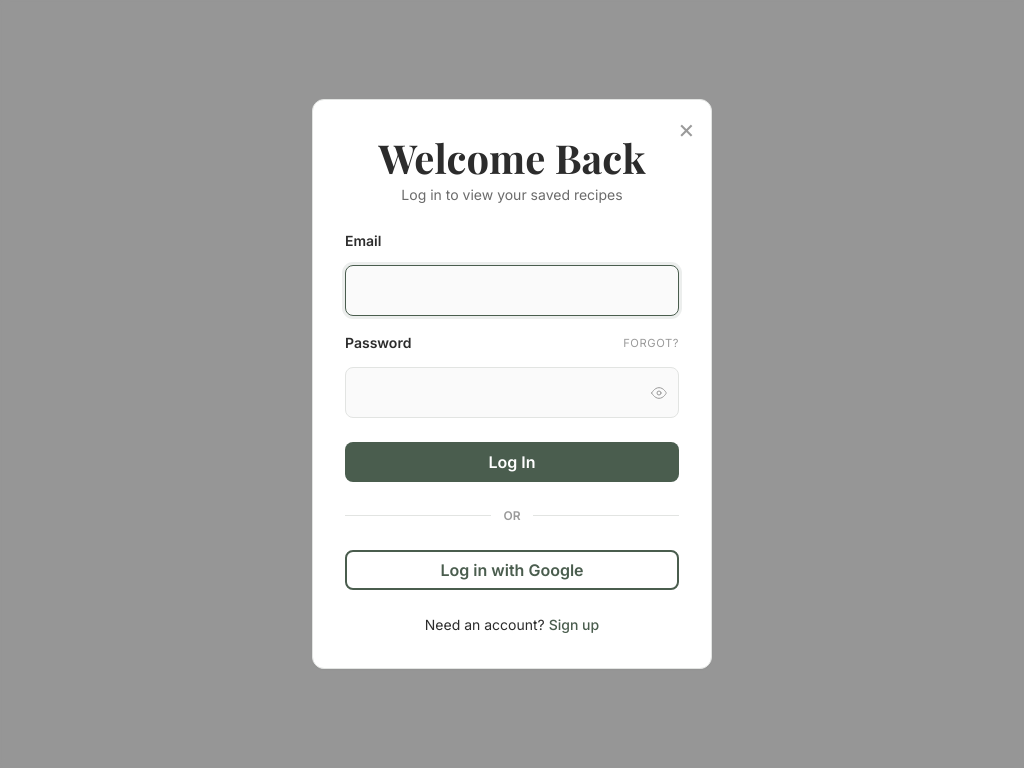
Test: LoginModal Component › handles login failure
Type "test@example.com" into the field labelled "Email" at (512, 291), box x1=345 y1=265 x2=679 y2=316
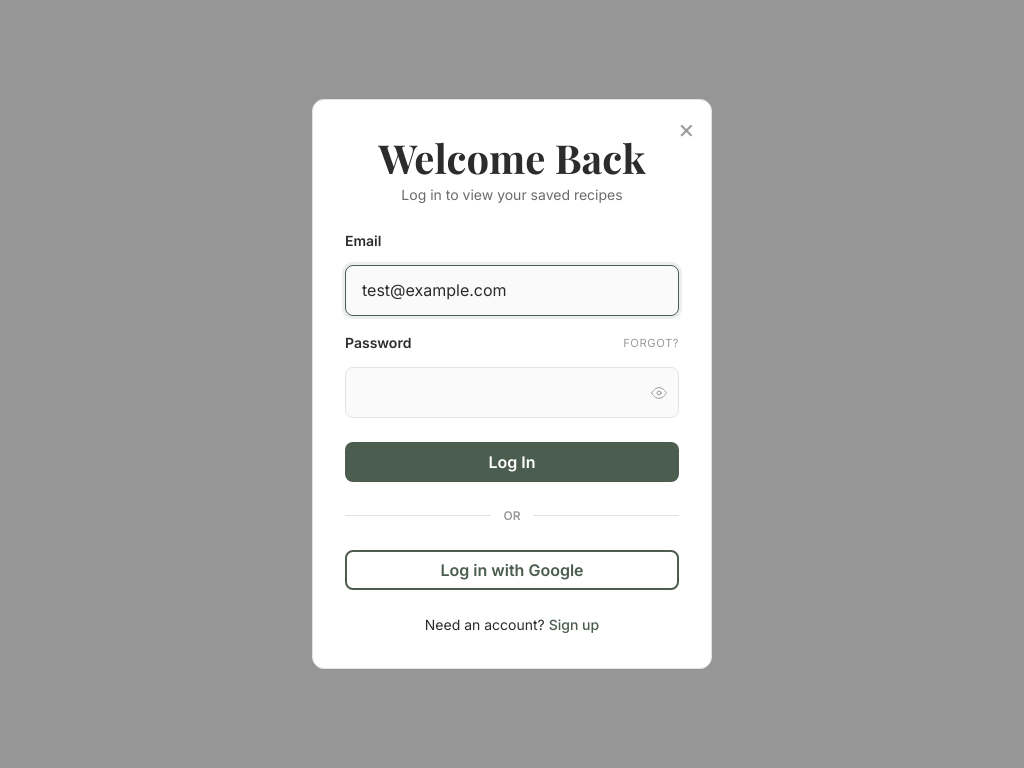
Type "wrongpass" into the password field labelled "Password" at (512, 393), box x1=345 y1=367 x2=679 y2=418
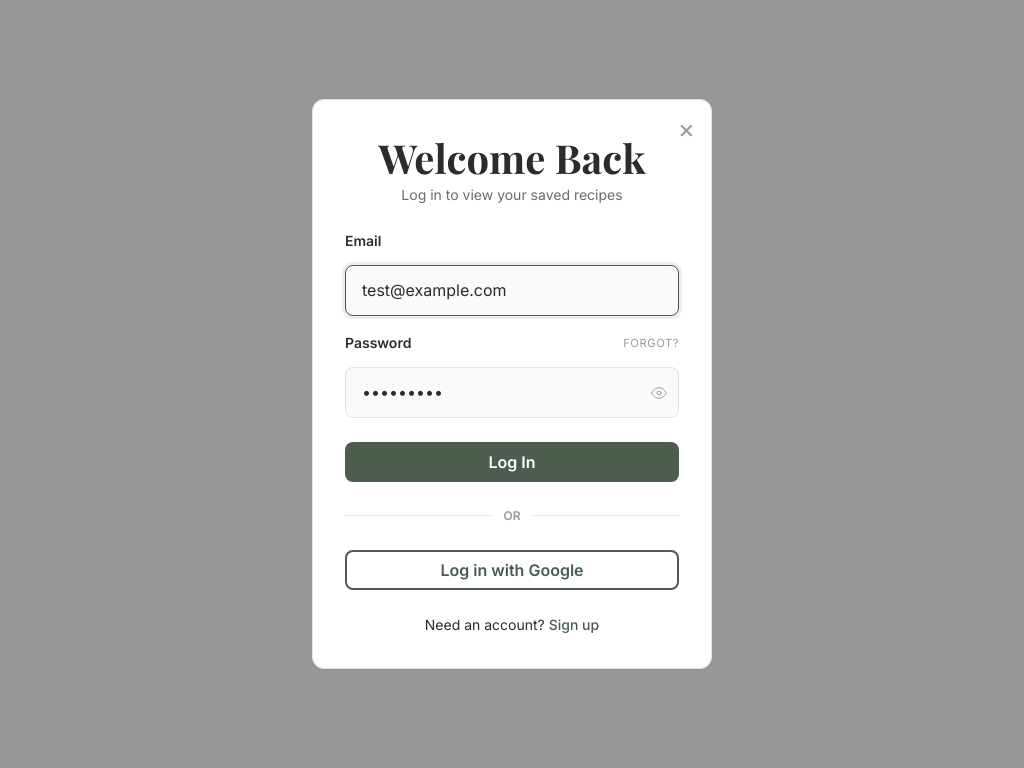
Click the button "Log In" at (512, 462), box x1=345 y1=442 x2=679 y2=482
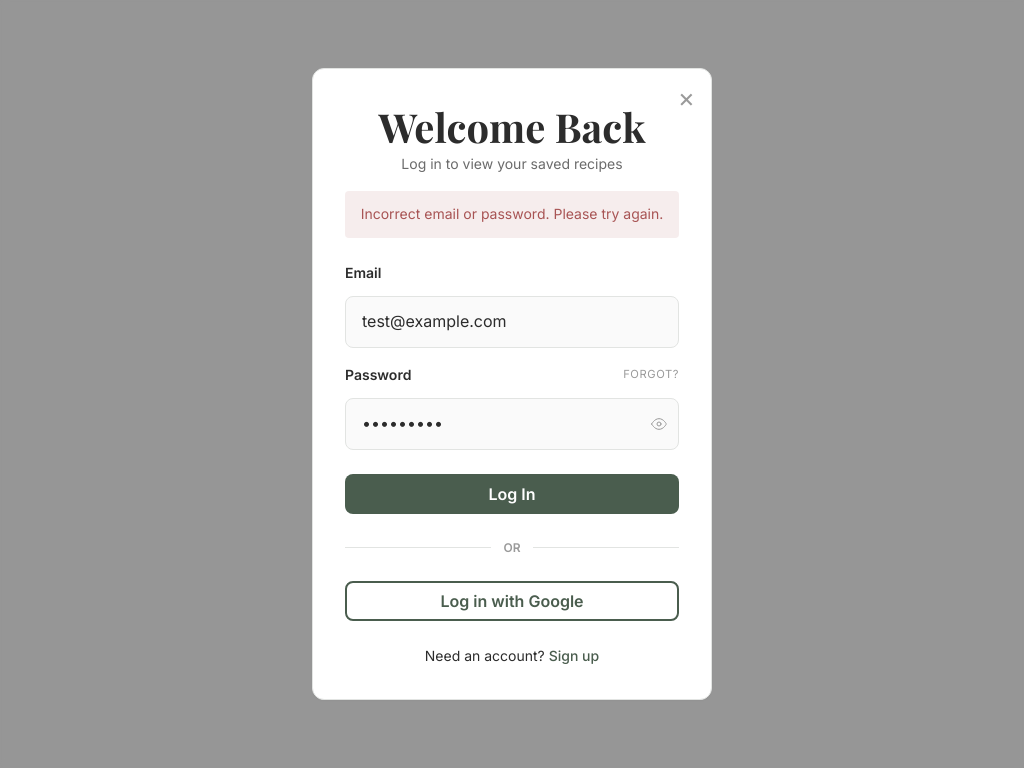
Check: the text "Incorrect email or password. Please try again." is shown, box x1=345 y1=191 x2=679 y2=238
